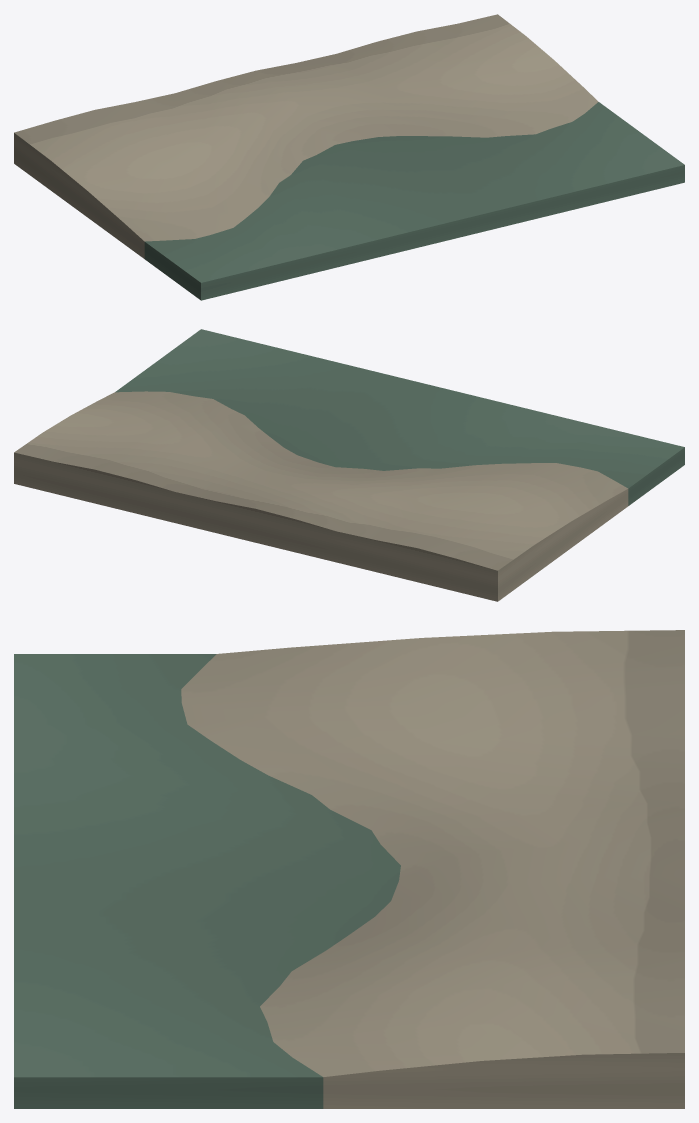
3 renders of one model, top to bottom at view 1: azimuth 30°, elevation 25°; view 2: azimuth 150°, elevation 25°; view 3: azimuth 270°, elevation 25°, orthographic. The views are drawn at different scales.
Visible parts, largest first — view 1: mata-utu; view 2: mata-utu; view 3: mata-utu.
Part boxes in pixels (x1=…): mata-utu: x1=14, y1=14, x2=684, y2=300; mata-utu: x1=14, y1=329, x2=684, y2=601; mata-utu: x1=14, y1=630, x2=684, y2=1108.
Bounding box in the file's own units: 7.76 × 0.5225 × 5.2.
Materials: 1 (1 with a texture image).
